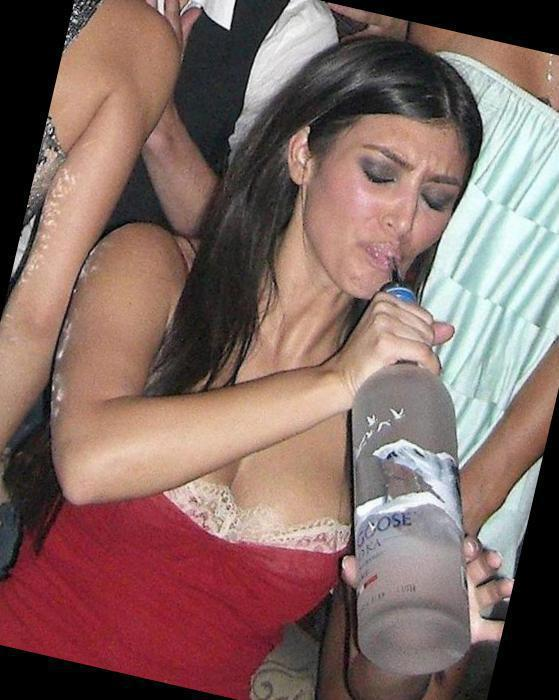Drunk: (319, 117, 462, 291)
